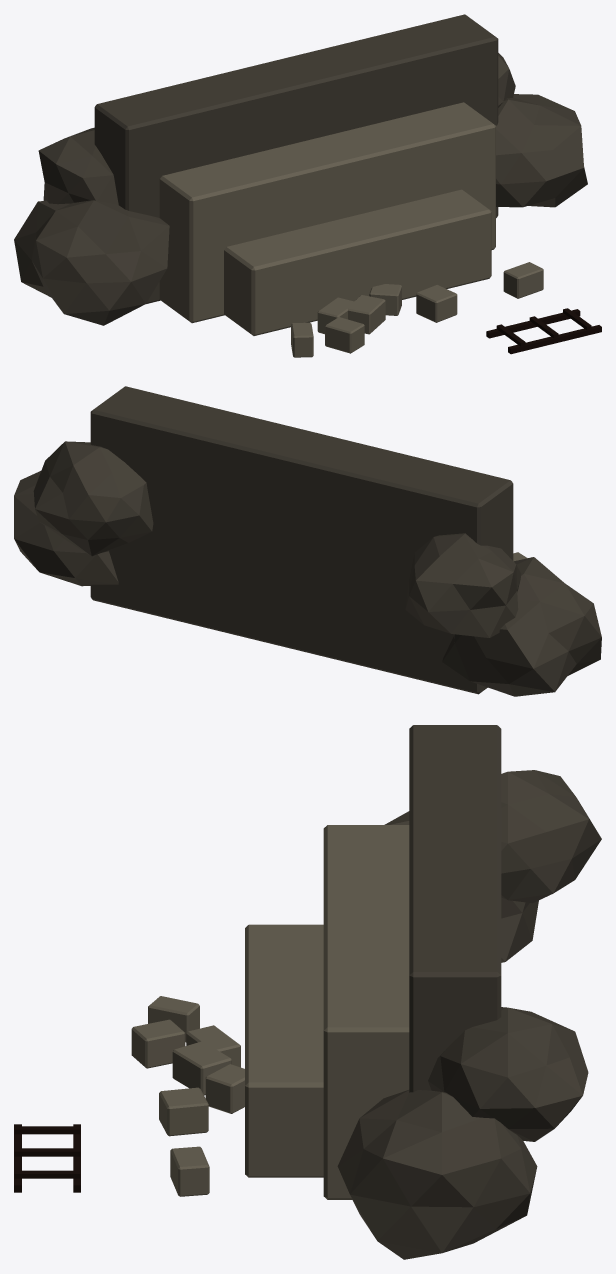
File: quarry_face.fbx
3 renders of one model, top to bottom at view 1: azimuth 30°, elevation 25°; view 2: azimuth 150°, elevation 25°; view 3: azimuth 270°, elevation 25°, orthographic. The views are drawn at different scales.
Visible parts, largest first — view 1: quarry_face; view 2: quarry_face; view 3: quarry_face.
Boxes of the visible parts, x1=… form: quarry_face: x1=14, y1=14, x2=601, y2=357; quarry_face: x1=14, y1=386, x2=601, y2=696; quarry_face: x1=14, y1=725, x2=601, y2=1259.
Size of the model in its own units: 13.12 by 4.2 by 8.94.
